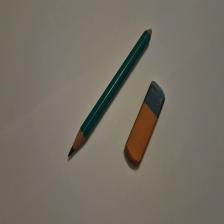eraser: (125, 81, 166, 166)
pencil: (69, 29, 153, 158)
